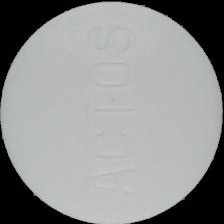54458-885: (0, 0, 224, 224)
